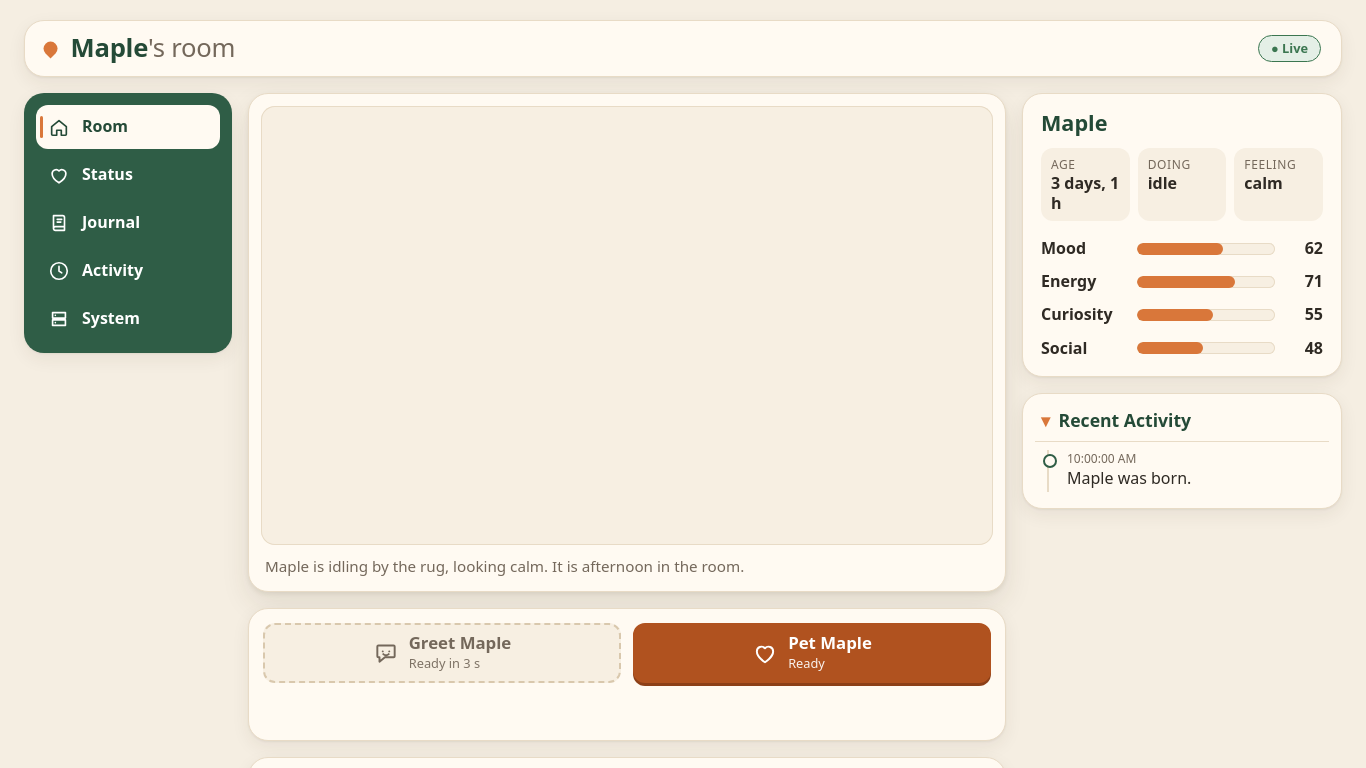
Greet/Pet › uses backend availability, shows the countdown, and asks the backend when it runs out
Expected: the button "Greet Maple Ready in 3 s" is disabled, [263, 623, 621, 683]
Expected: the button "Greet Maple Ready in 3 s" is shown, [263, 623, 621, 683]
What coordinates should you click on to do the following:
click the button "Pet Maple Ready"
I would click on:
 (812, 653)
Its box is [633, 623, 991, 683].
Wait 3000 ms
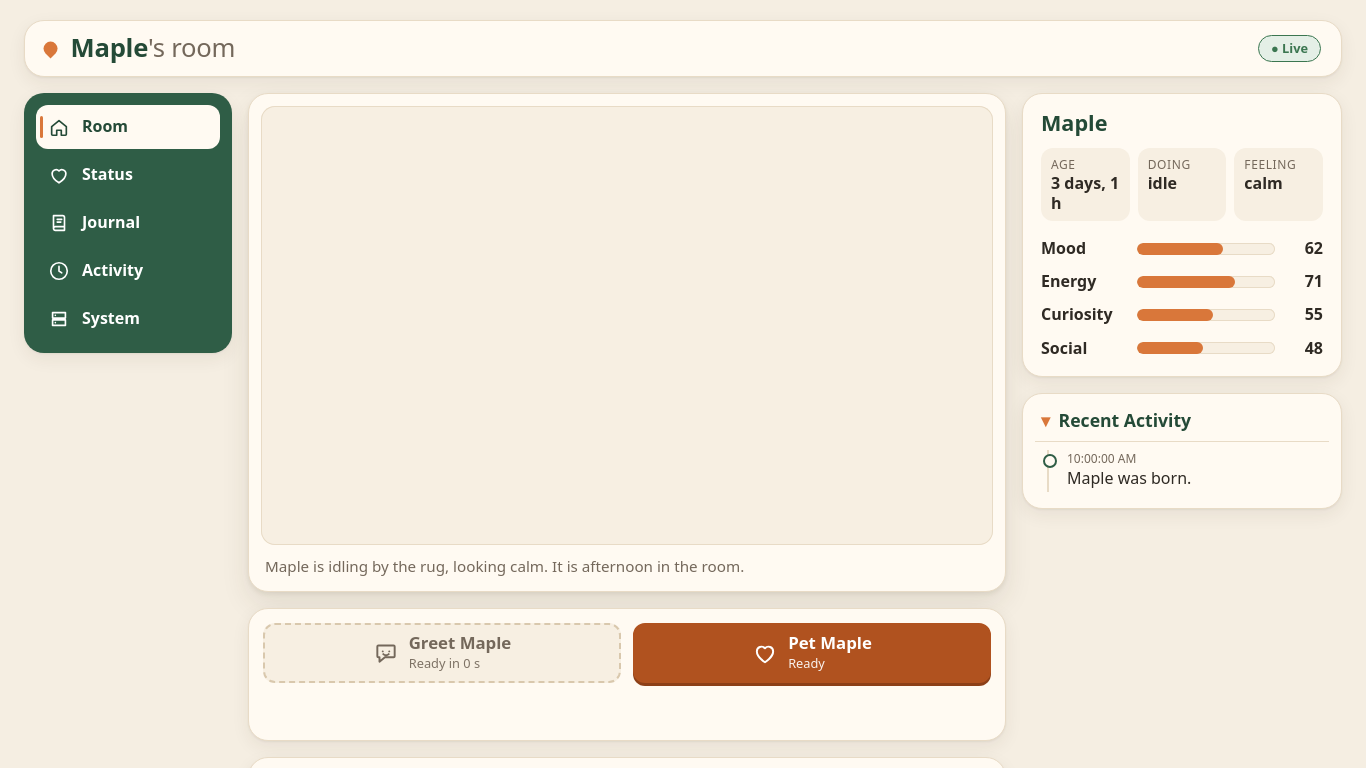
Expected: the button "Greet Maple Ready in 0 s" is disabled, [263, 623, 621, 683]
Expected: the button "Greet Maple Ready in 0 s" is shown, [263, 623, 621, 683]
